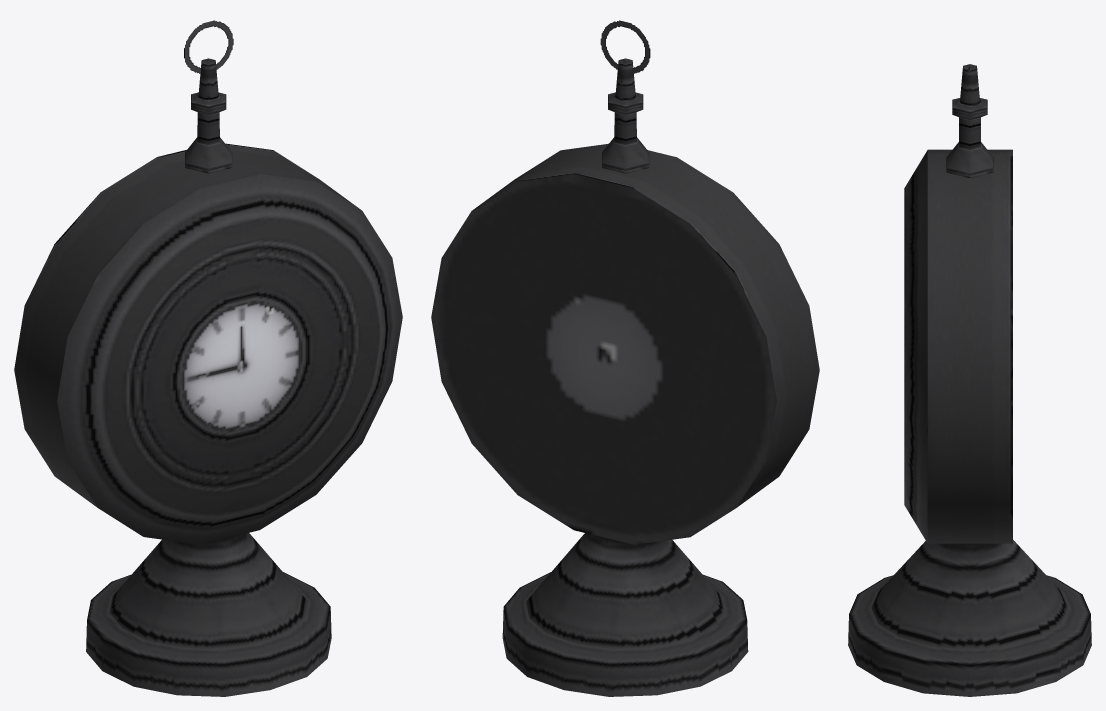
The model's file is Clock.FBX.
The picture shows the model from 3 angles, left to right: view 1: azimuth 30°, elevation 25°; view 2: azimuth 150°, elevation 25°; view 3: azimuth 270°, elevation 25°; orthographic projection.
Parts seen in each view (by area): view 1: Clock; view 2: Clock; view 3: Clock.
Boxes of the visible parts, x1=… form: Clock: x1=14, y1=20, x2=402, y2=696; Clock: x1=431, y1=20, x2=819, y2=696; Clock: x1=848, y1=64, x2=1091, y2=696.
Size of the model in its own units: 27.97 by 17.24 by 48.34.
